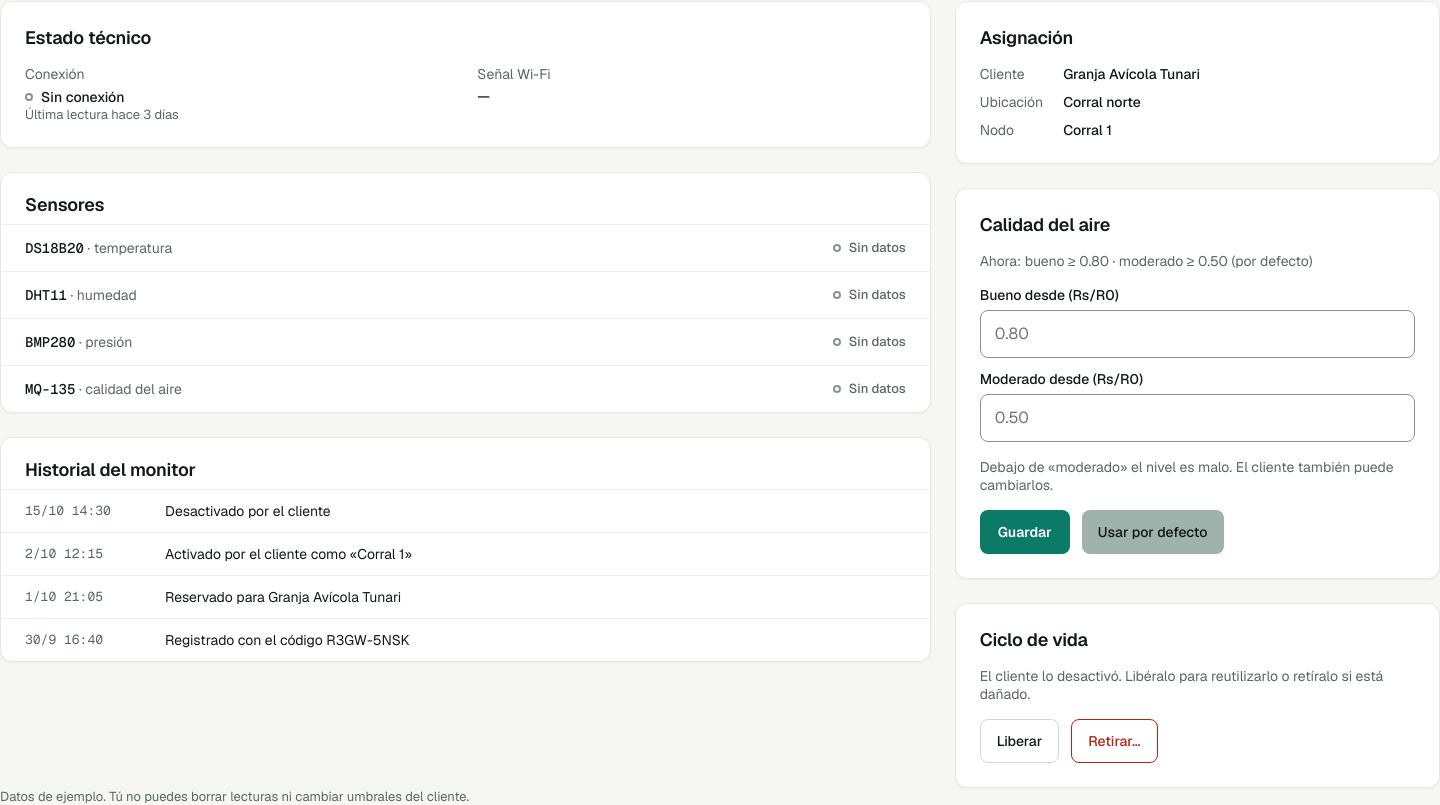
Scenario: MonitorFicha › libera un monitor desactivado con un código nuevo tras confirmar
(page scrolled)
Step 1. Click the button "Liberar" → (1019, 741), box 980,719 -> 1059,763
(page scrolled)
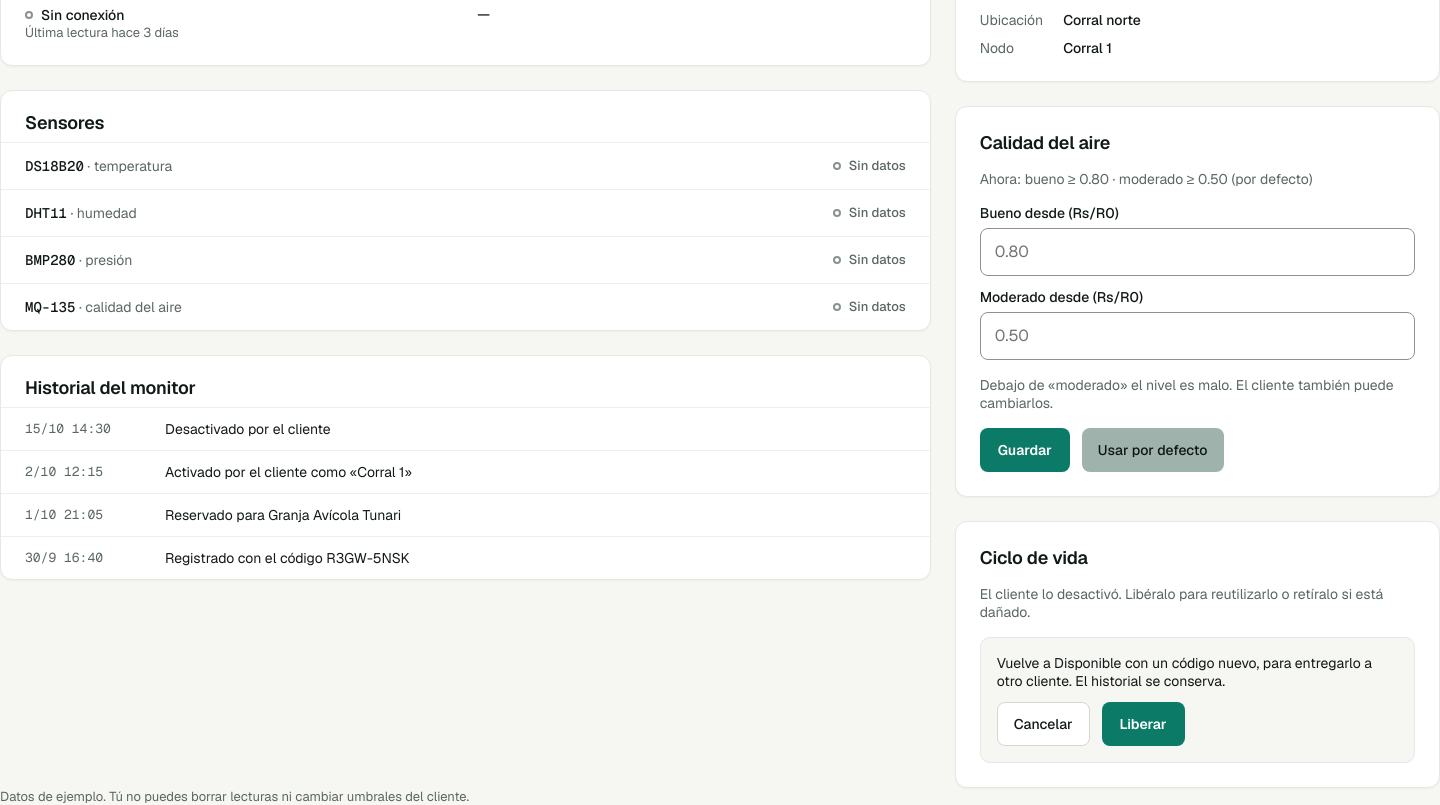
Check: the text "Vuelve a Disponible con un código nuevo" is shown, box 997,654 -> 1372,690
Step 2. Click the button "Liberar" → (1143, 724), box 1102,702 -> 1185,746
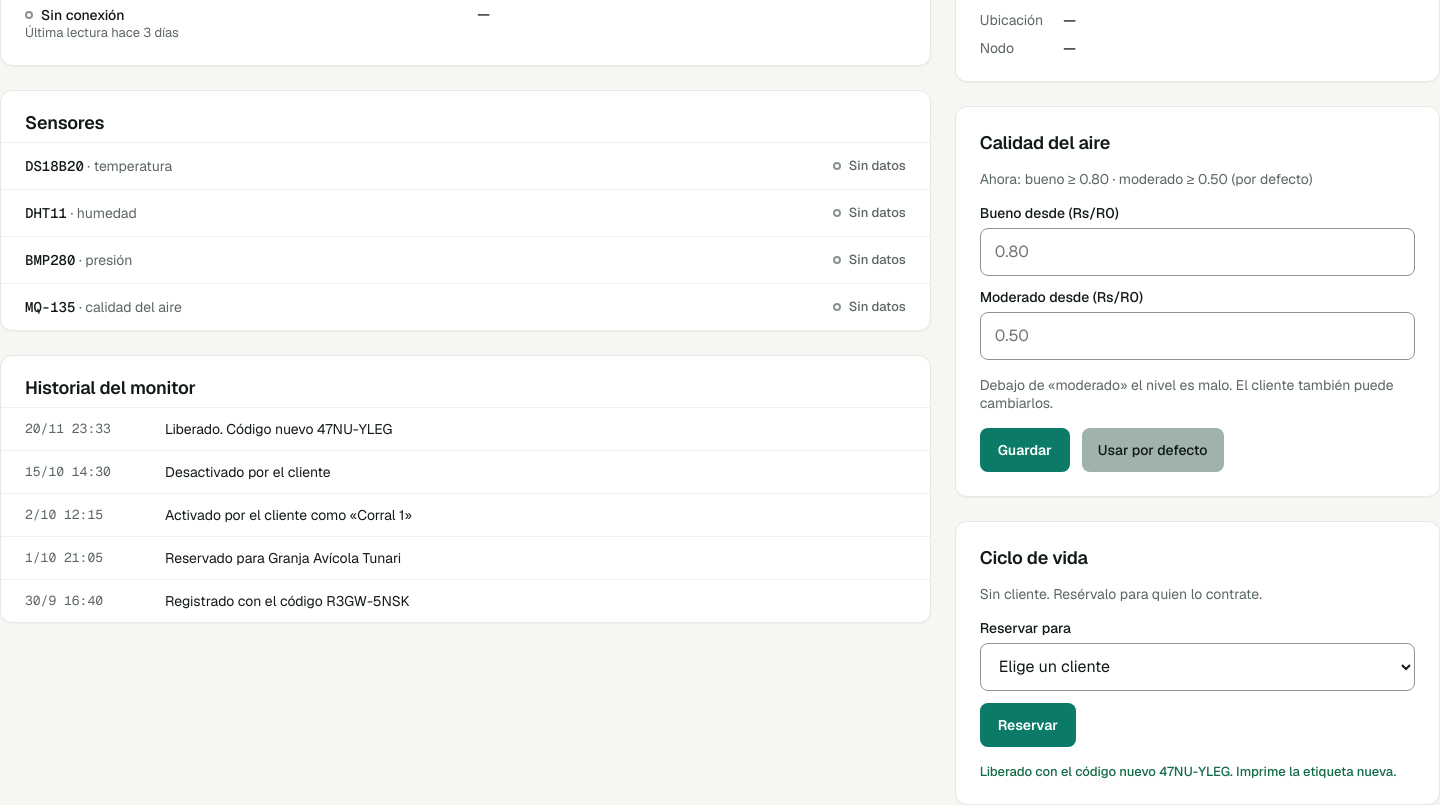
Check: the text "Sin cliente. Resérvalo para quien lo contrate." is shown, box 980,585 -> 1262,603
